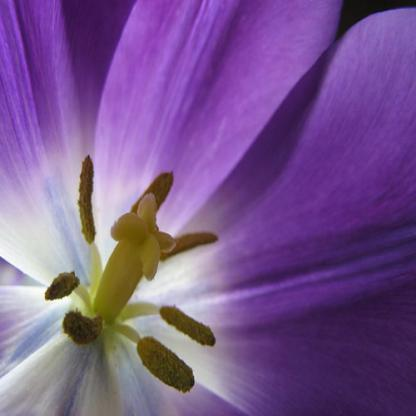TULIP: (52, 135, 251, 398)
